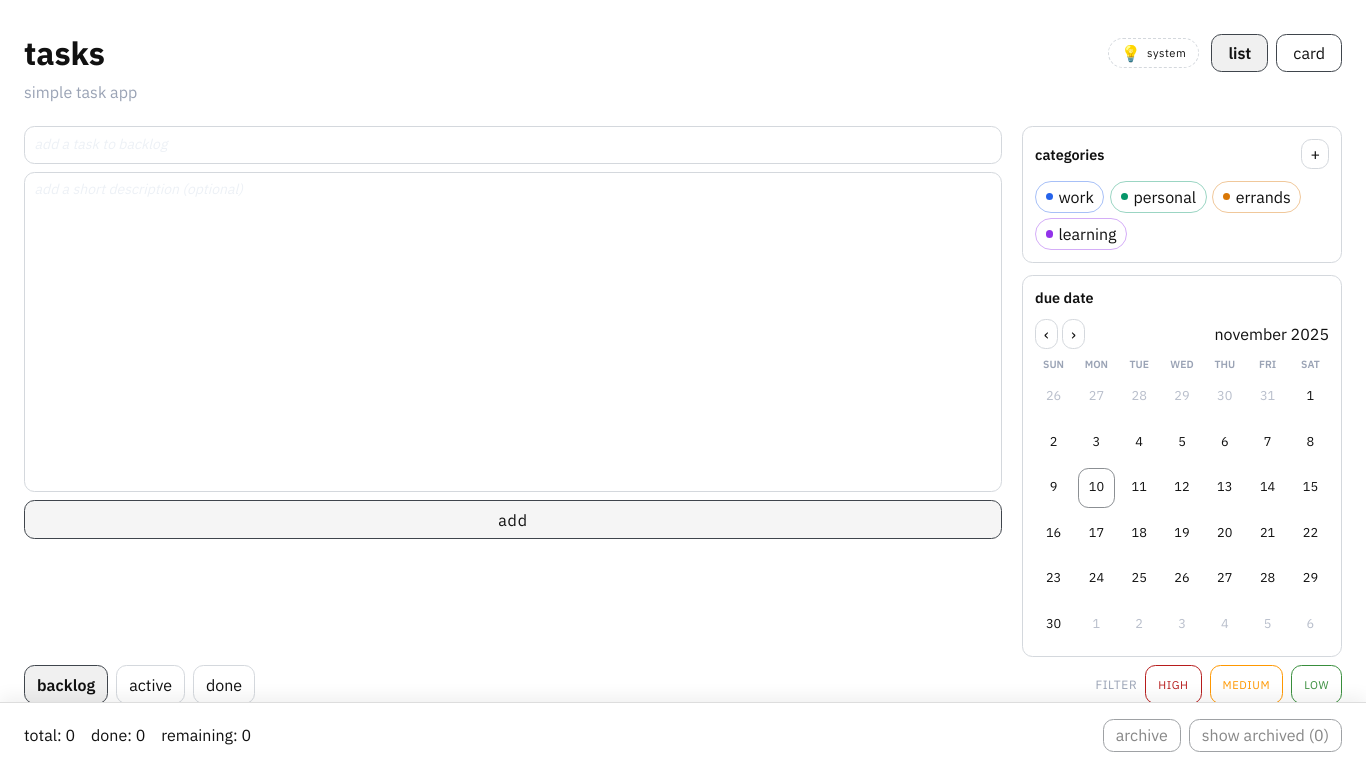
Test: App › removes categories via right click and clears them from todos
In the field with placeholder "add a task to backlog": (513, 145) [24,126,1002,164], type "tagged task"
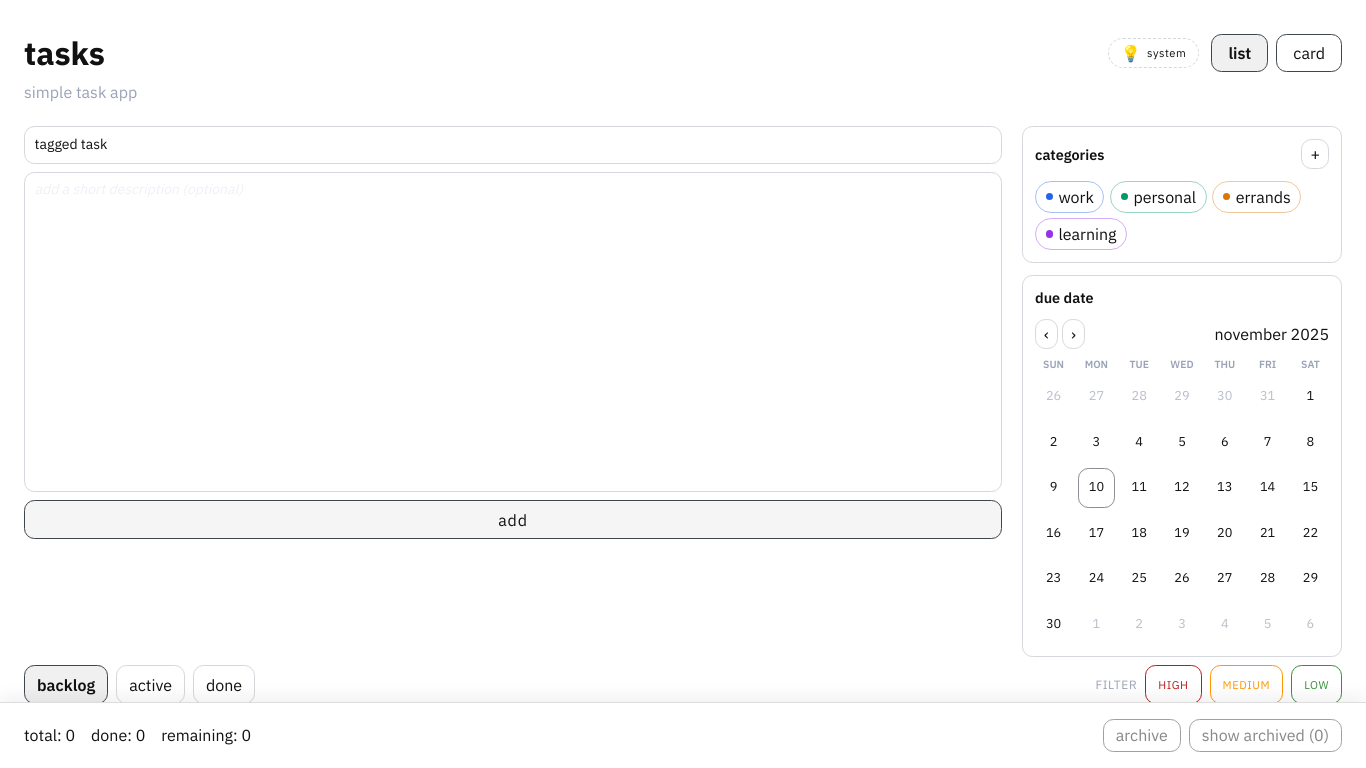
Click the button named "select": (1054, 396) [1035,376,1072,416]
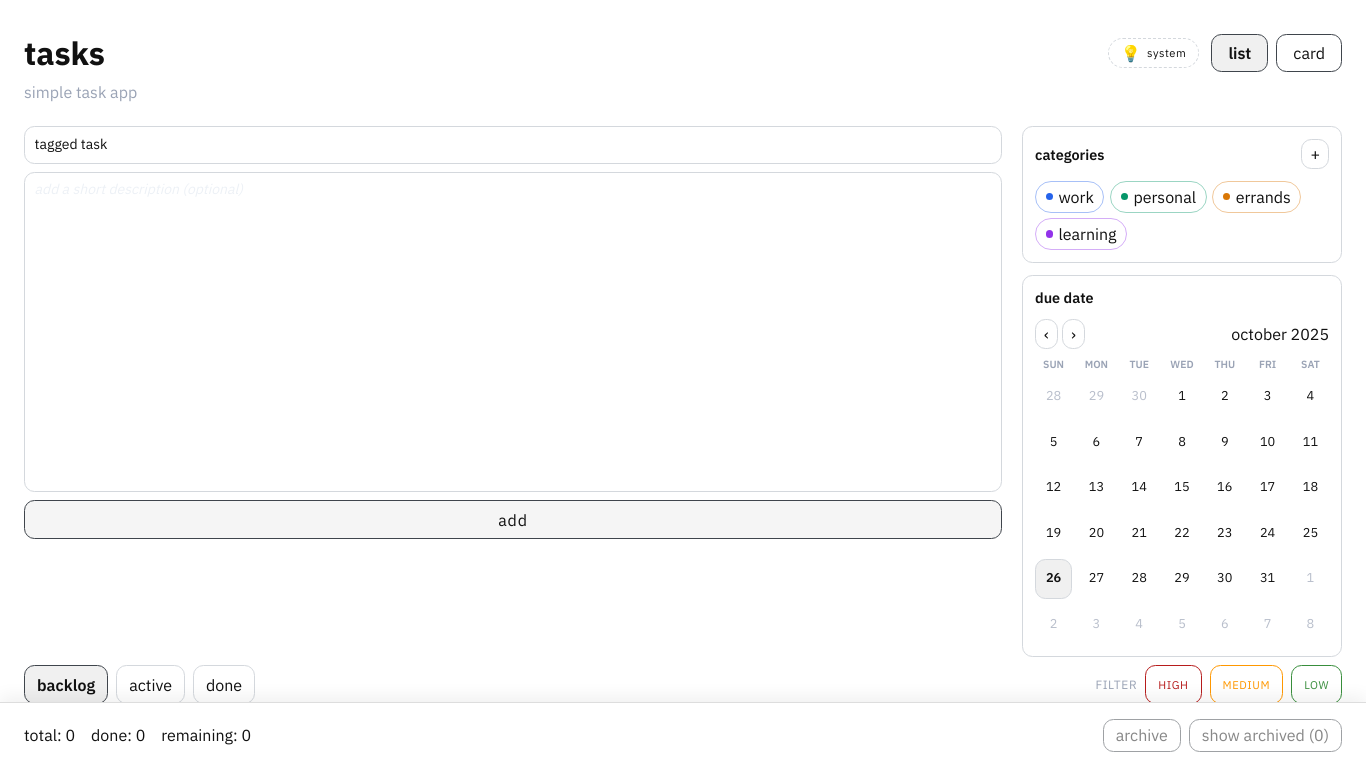
Click the button "personal": (1158, 197) [1110,181,1207,213]
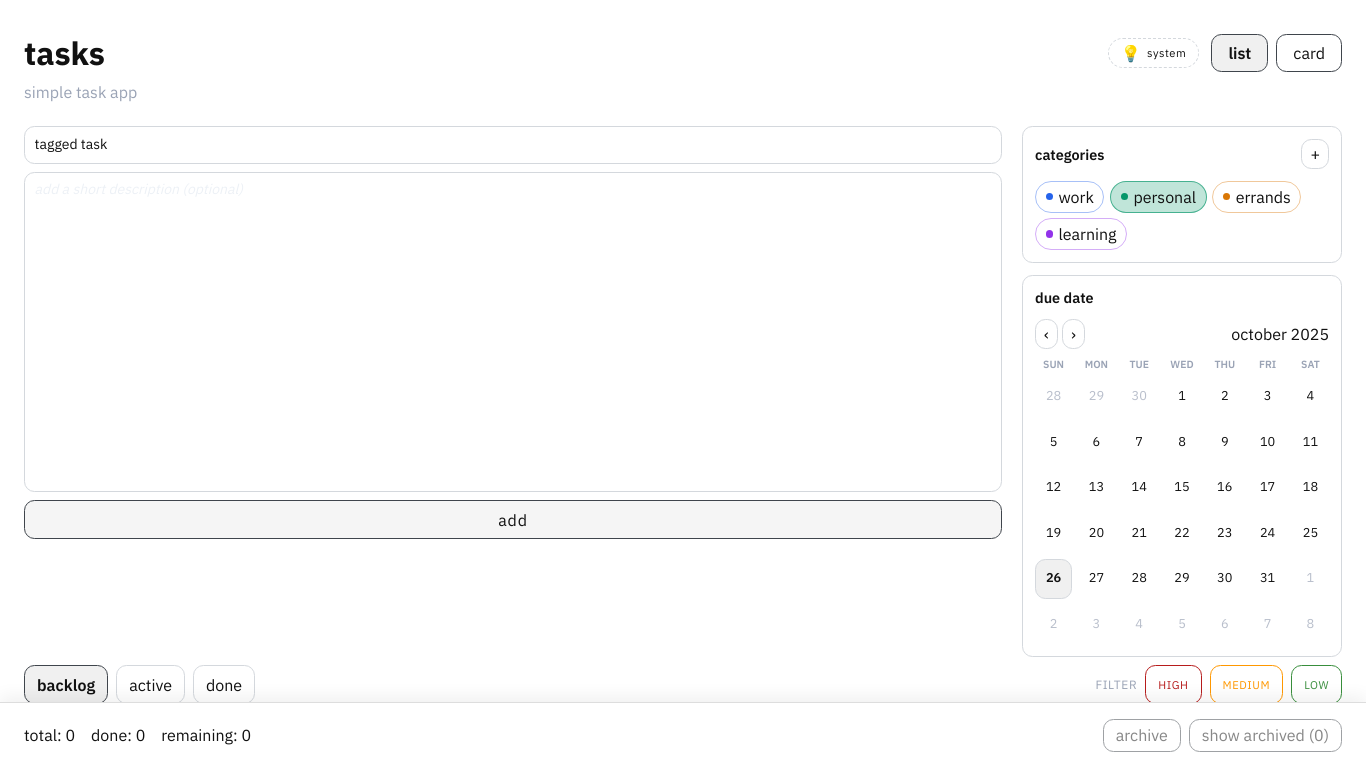
Click the button "add": (513, 520) [24,500,1002,539]
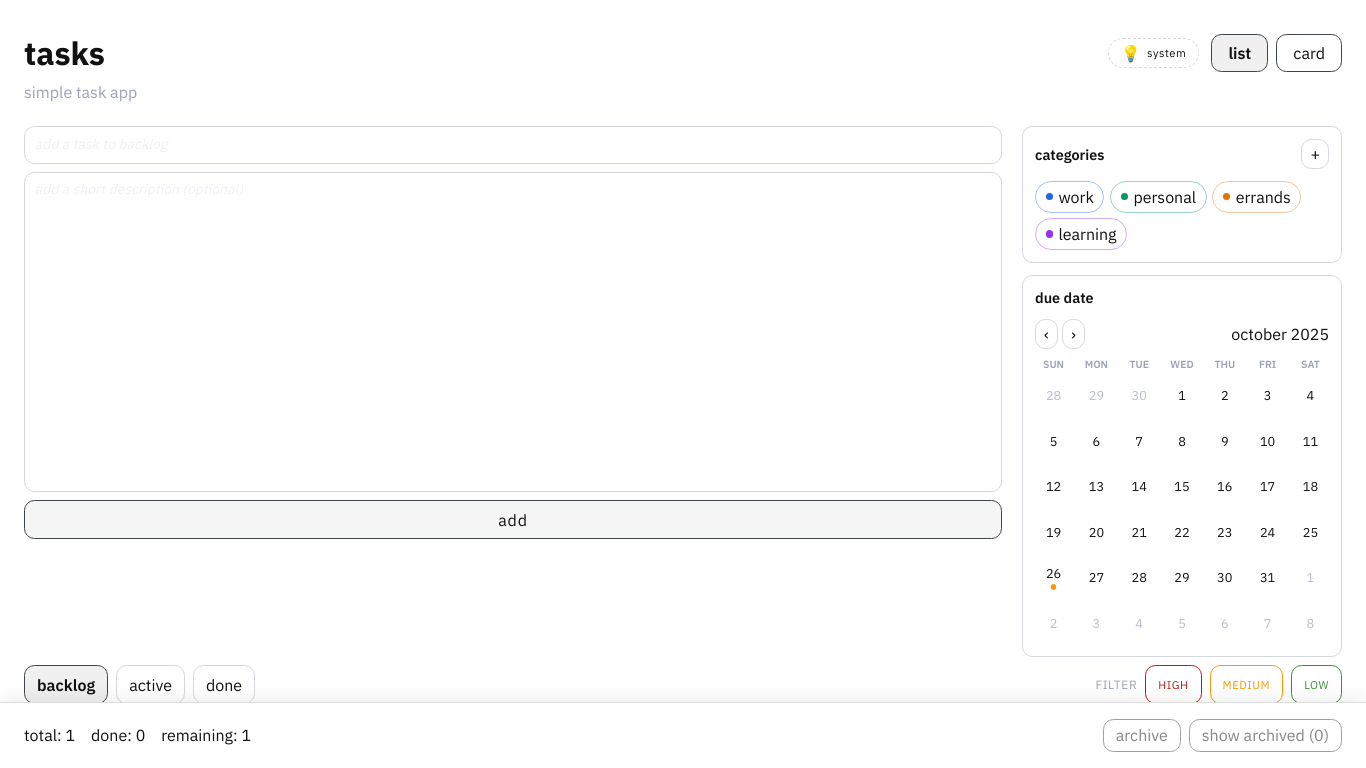
Right-click the button "personal": (1158, 197) [1110,181,1207,213]
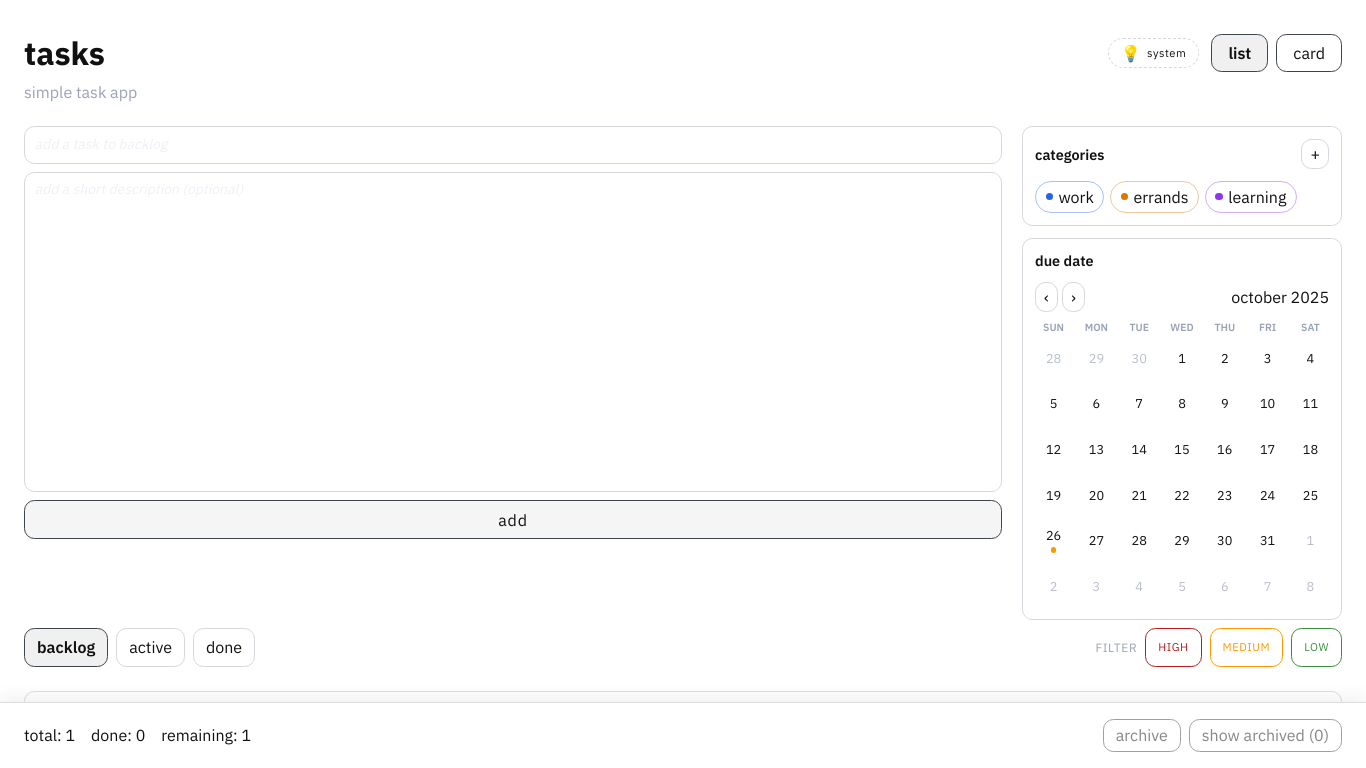
Check: the button "personal" is gone
